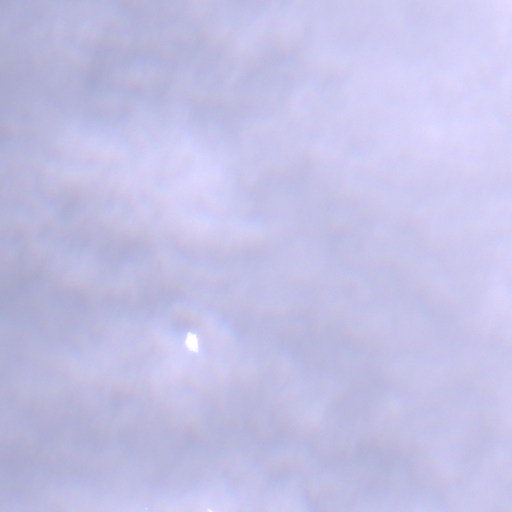Iceberg: (186, 333, 197, 351)
